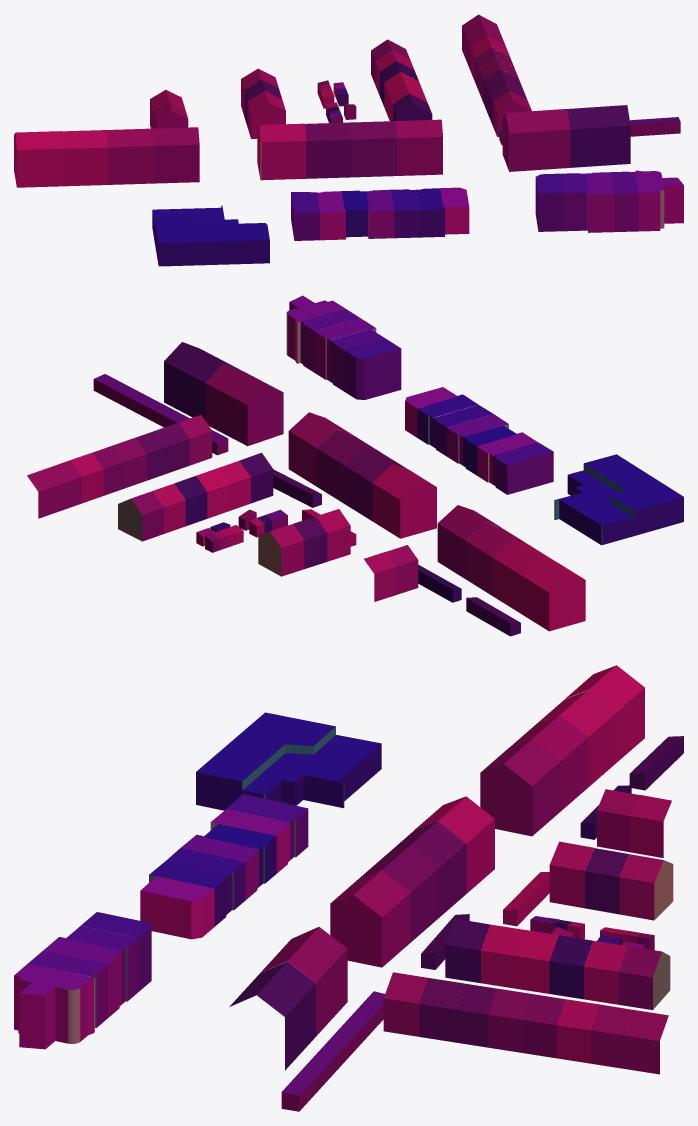
Rendered from buildings_12_14.glb.
The picture shows the model from 3 angles, top to bottom: view 1: azimuth 30°, elevation 25°; view 2: azimuth 150°, elevation 25°; view 3: azimuth 270°, elevation 25°; orthographic projection. The views are drawn at different scales.
Visible parts, largest first — view 1: buildings_12_14; view 2: buildings_12_14; view 3: buildings_12_14.
Boxes of the visible parts, x1,y1,x2,y2 form: buildings_12_14: (14,14,683,266); buildings_12_14: (27,295,683,636); buildings_12_14: (14,665,683,1111).
Size of the model in its own units: 140 by 12.1 by 104.
